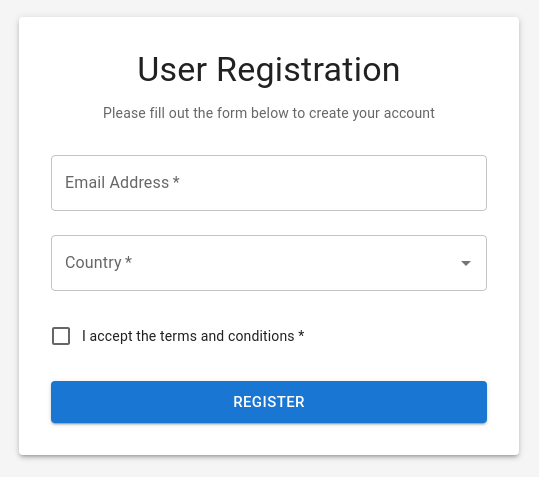
App Component › Form Submission › should submit successfully with valid data
Type "test@example.com" into the field with test id "email-input". click: x=269, y=183
box: [51, 155, 487, 211]
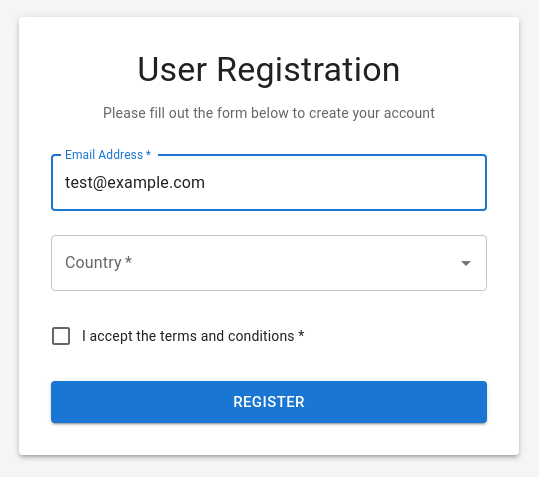
Type "Canada" into the dropdown with test id "country-input". click: x=254, y=263
box: [60, 244, 448, 282]
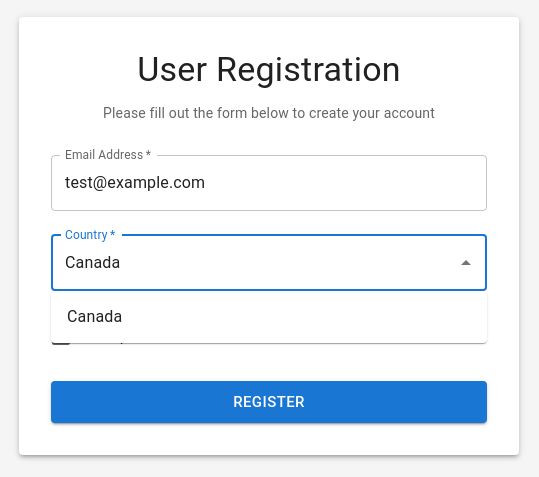
Click the option "Canada". click: x=95, y=316
box: [67, 307, 122, 326]
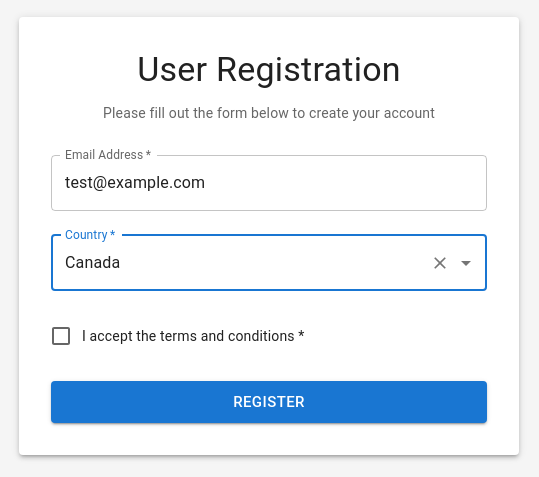
Click the checkbox with test id "terms-checkbox". click: x=177, y=336
box: [49, 324, 304, 348]
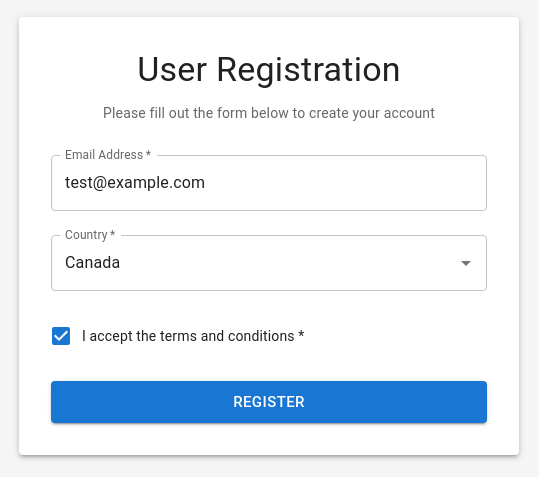
Click the button with test id "submit-button". click: x=269, y=402
box: [51, 381, 487, 423]
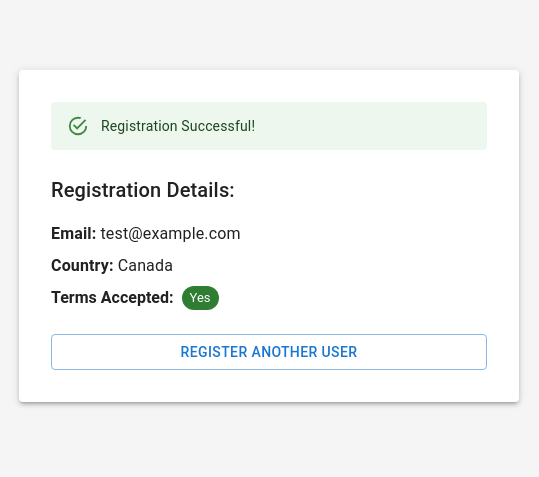
Expected: the message "Registration Successful!" is shown, [51, 102, 487, 150]
Expected: the element with test id "submitted-email" shows "test@example.com", [100, 224, 241, 243]
Expected: the element with test id "submitted-country" shows "Canada", [118, 256, 173, 275]
